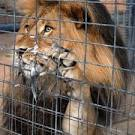lion: (4, 3, 135, 134)
